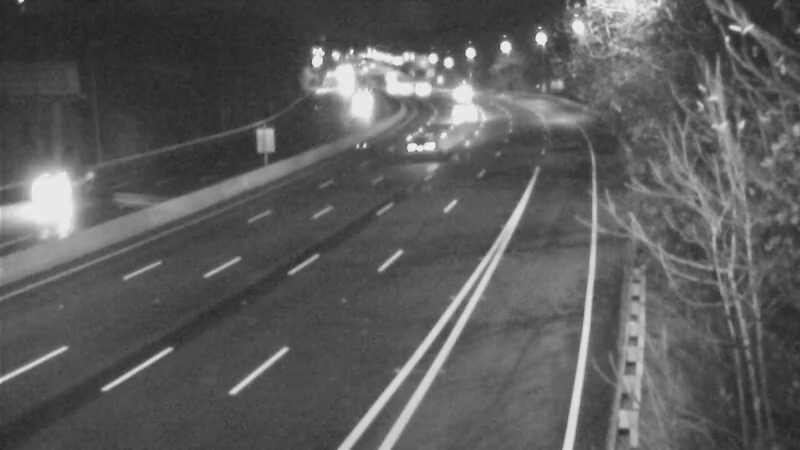vehicle: (23, 144, 103, 224), (363, 61, 413, 111), (391, 62, 441, 112), (434, 73, 484, 123), (436, 95, 486, 145), (395, 118, 445, 168), (335, 74, 385, 124)
